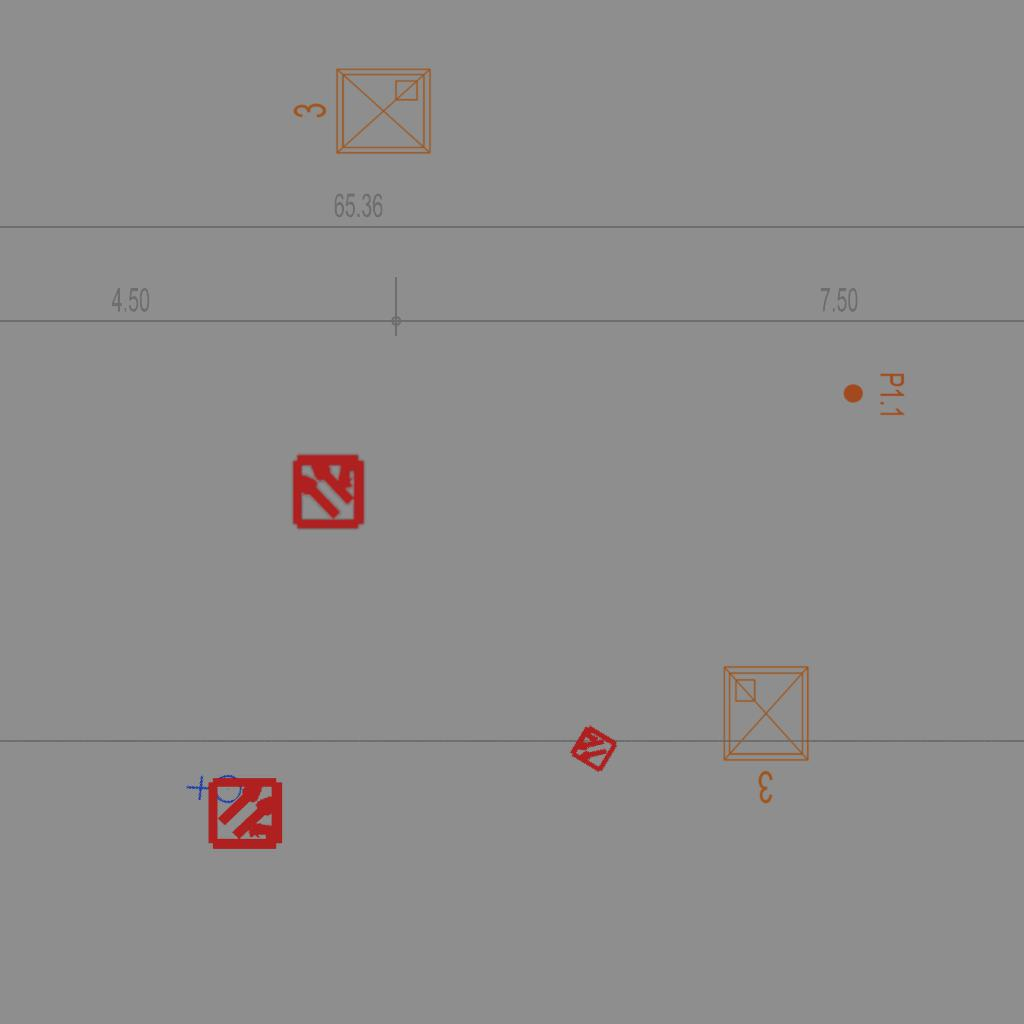Downlight_LED_Einbauleuchten_Flur: (842, 372, 906, 418)
Einbaudownlights_LED_Konferenzraeume: (288, 61, 438, 165), (716, 659, 820, 809)
Elektroanschluss_allgemein_230V_Geraeteanschlussdose_230V: (183, 756, 252, 825)
OT_Multisensormelder_(Kombination_RMO_WMD): (272, 433, 385, 546), (191, 757, 304, 870), (554, 709, 632, 787)
